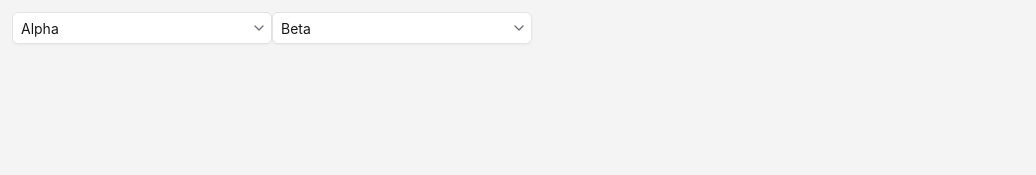
ComboBox › closes when another combobox is selected without picking an option
The width and height of the screenshot is (1036, 175).
Click the 1st button named "Open": (259, 28) [247, 13, 271, 43]
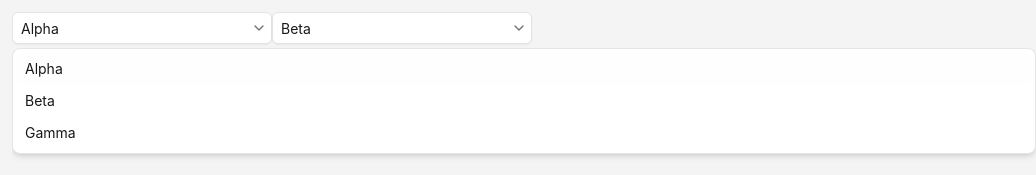
Click the 2nd dropdown: (390, 28) [273, 13, 507, 43]
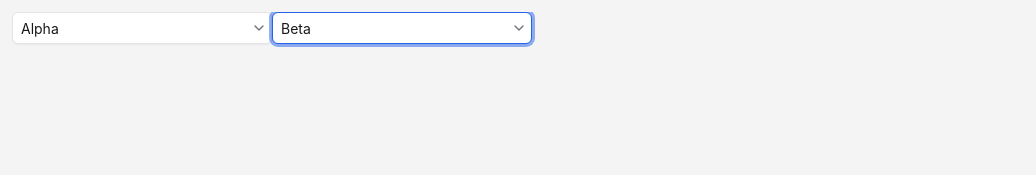
expect the list is gone: met
